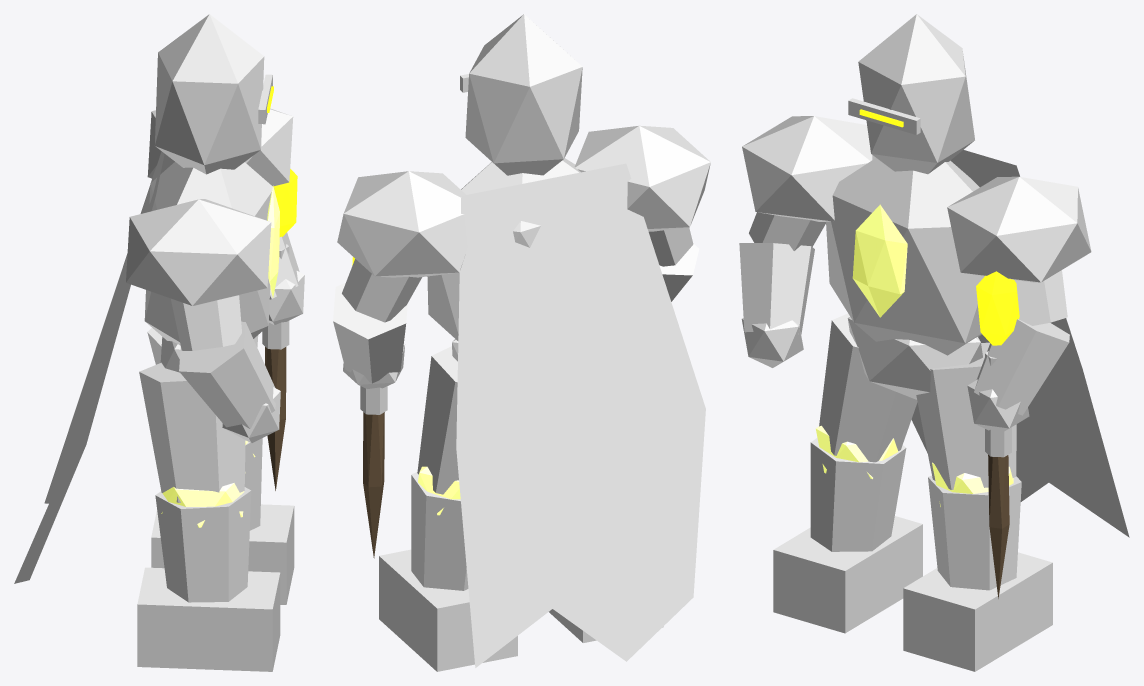
The model's file is fighter-wand-plate.glb.
3 views of the same model, side by side, from view 1: azimuth 30°, elevation 25°; view 2: azimuth 150°, elevation 25°; view 3: azimuth 270°, elevation 25° (orthographic).
Parts seen in each view (by area): view 1: Closed helm.008, Pauldron.008, Armored boot.016, Thigh.016, Greave.016, Breastplate.008, Torn crimson mantle.008, Gauntlet.016, Armored boot.017, Arm.034, Pauldron.009, Sword shaft.003 (+10 smaller); view 2: Torn crimson mantle.008, Closed helm.008, Pauldron.009, Pauldron.008, Armored boot.017, Greave.017, Thigh.017, Gauntlet.017, Breastplate.008, Arm.035, Sword shaft.003, Arm.034 (+4 smaller); view 3: Breastplate.008, Torn crimson mantle.008, Closed helm.008, Pauldron.009, Armored boot.017, Armored boot.016, Pauldron.008, Greave.016, Thigh.016, Greave.017, Thigh.017, Gauntlet.016 (+13 smaller).
Part boxes in pixels (<box>): Closed helm.008: <box>154,14,264,174</box>; Pauldron.008: <box>126,199,271,305</box>; Armored boot.016: <box>137,567,280,671</box>; Thigh.016: <box>139,362,245,502</box>; Greave.016: <box>155,487,251,602</box>; Breastplate.008: <box>144,162,274,345</box>; Torn crimson mantle.008: <box>14,151,164,583</box>; Gauntlet.016: <box>179,321,275,428</box>; Armored boot.017: <box>151,504,294,604</box>; Arm.034: <box>171,295,241,350</box>; Pauldron.009: <box>147,108,293,186</box>; Sword shaft.003: <box>265,347,286,490</box>; Torn crimson mantle.008: <box>456,163,705,667</box>; Closed helm.008: <box>465,14,582,175</box>; Pauldron.009: <box>337,171,467,277</box>; Pauldron.008: <box>574,125,710,231</box>; Armored boot.017: <box>379,549,517,671</box>; Greave.017: <box>411,472,468,590</box>; Thigh.017: <box>417,346,458,494</box>; Gauntlet.017: <box>333,282,407,383</box>; Breastplate.008: <box>427,158,580,340</box>; Arm.035: <box>342,259,422,322</box>; Sword shaft.003: <box>363,412,384,558</box>; Arm.034: <box>648,227,693,266</box>; Breastplate.008: <box>826,158,983,355</box>; Torn crimson mantle.008: <box>911,150,1129,537</box>; Closed helm.008: <box>858,14,974,174</box>; Pauldron.009: <box>947,176,1091,282</box>; Armored boot.017: <box>903,552,1052,671</box>; Armored boot.016: <box>773,516,922,633</box>; Pauldron.008: <box>742,116,875,221</box>; Greave.016: <box>810,438,906,551</box>; Thigh.016: <box>819,313,917,462</box>; Greave.017: <box>928,475,1021,590</box>; Thigh.017: <box>916,342,1016,489</box>; Gauntlet.016: <box>739,243,814,334</box>.
Size of the model in its own units: 1.7 by 3.19 by 1.87.
